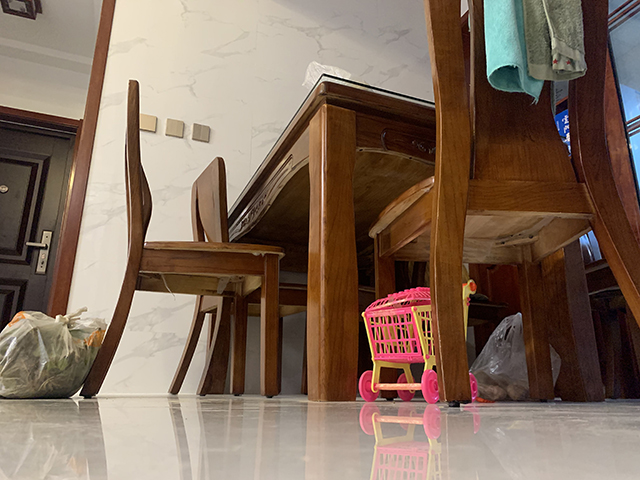stool: (367, 1, 640, 408), (78, 80, 286, 398), (168, 157, 308, 399)
table: (227, 71, 440, 403)
